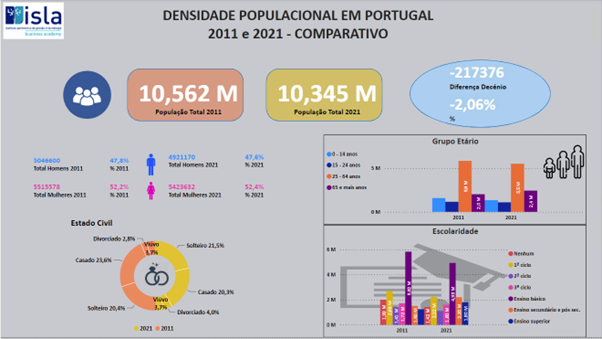

The page's visual inventory and layout, read from the dashboard file:
{"tool":"powerbi","page":{"name":"Comparativo 2011 e 2021","canvas":[1280,720],"ordinal":1},"visuals":[{"type":"textbox","box":[2,9.2,1270.8,87.3],"z":0},{"type":"shape","box":[872.1,128,300,144],"z":0,"group":"g5"},{"type":"image","box":[112,146.1,144,112],"z":0,"group":"g8"},{"type":"shape","box":[269.4,146.1,248,112],"z":0,"group":"g2"},{"type":"shape","box":[565.4,146.1,248,112],"z":0,"group":"g3"},{"type":"image","box":[1152,288,96,115.2],"z":0,"group":"g6"},{"type":"group","id":"g1","title":"Grupo 1","box":[64,320,336,128],"z":0,"group":"g7"},{"type":"multiRowCard","fields":{"Values":["Sum(Estado Civil.Total M)","Sum(Estado Civil.% M)"]},"box":[64,384,336,64],"z":0,"group":"g1"},{"type":"donutChart","title":"Estado Civil","fields":{"Y":["Sum(Estado Civil.Solteiro HM)","Sum(Estado Civil.Casado HM)","Sum(Estado Civil.Divorciado HM)","Sum(Estado Civil.Viúvo HM)"],"Category":["Calendário.Ano"]},"box":[136,464,368,256],"z":0,"group":"g4"},{"type":"multiRowCard","fields":{"Values":["Ensino.População Total","Ensino.População Total %"]},"box":[952.1,128,144,144],"z":1000,"group":"g5"},{"type":"group","id":"g2","title":"Grupo 3","box":[184,146.1,432,112],"z":1000,"group":"g8"},{"type":"card","fields":{"Values":["Sum(Ensino.Total HM)"]},"box":[184,146.1,432,112],"z":1000,"group":"g2"},{"type":"card","fields":{"Values":["Sum(Ensino.Total HM)"]},"box":[480,146.1,432,112],"z":1000,"group":"g3"},{"type":"clusteredColumnChart","title":"Grupo Etário","fields":{"Y":["Sum(Grupo Etário.0 - 14 anos HM)","Sum(Grupo Etário.15 - 24 anos HM)","Sum(Grupo Etário.25 - 64 anos HM)","Sum(Grupo Etário.65 e mais anos HM)"],"Category":["Calendário.Ano"]},"box":[688,288,560,192],"z":1000,"group":"g6"},{"type":"image","box":[288,384,64,48],"z":1000,"group":"g1"},{"type":"multiRowCard","fields":{"Values":["Sum(Estado Civil.Total M)","Sum(Estado Civil.% M)"]},"box":[352,384,336,48],"z":1000,"group":"g7"},{"type":"clusteredColumnChart","title":"Escolaridade","fields":{"Y":["Sum(Ensino.Nenhum HM)","Sum(Ensino.1º ciclo HM)","Sum(Ensino.2º ciclo HM)","Sum(Ensino.3º ciclo HM)","Sum(Ensino.Ensino básico HM)","Sum(Ensino.Ensino secundário e pós secundário HM)","Sum(Ensino.Ensino superior HM)"],"Category":["Calendário.Ano"]},"box":[688,480,560,240],"z":1000},{"type":"image","box":[226.6,554.2,195.8,59.5],"z":1000,"group":"g4"},{"type":"group","id":"g3","title":"Grupo 3","box":[480,146.1,432,112],"z":2000,"group":"g8"},{"type":"multiRowCard","fields":{"Values":["Sum(Estado Civil.Total H)","Estado Civil.% H"]},"box":[64,328,336,56],"z":2000,"group":"g1"},{"type":"multiRowCard","fields":{"Values":["Sum(Estado Civil.Total H)","Estado Civil.% H"]},"box":[352,328,336,80],"z":2000,"group":"g7"},{"type":"group","id":"g4","title":"Grupo 2","box":[136,464,368,256],"z":2000},{"type":"image","box":[0,0,139.2,89.3],"z":3000},{"type":"group","id":"g5","title":"Grupo 5","box":[872.1,128,300,144],"z":3000,"group":"g8"},{"type":"image","box":[288,320,64,64],"z":3000,"group":"g1"},{"type":"group","id":"g6","title":"Grupo 4","box":[688,288,560,192],"z":4000},{"type":"group","id":"g7","title":"Grupo 6","box":[64,320,624,128],"z":5000},{"type":"group","id":"g8","title":"Grupo 7","box":[112,128,1060.1,144],"z":6000}]}

Visuals, with their boxes in screenshot pixels (x1, y1, x2, y2), scaled from the page's 1280x720 canvas onto the 602x339 screenshot:
textbox: [1, 4, 599, 45]
shape: [410, 60, 551, 128]
image: [53, 69, 120, 122]
shape: [127, 69, 243, 122]
shape: [266, 69, 383, 122]
image: [542, 136, 587, 190]
"Grupo 1" group: [30, 151, 188, 211]
multiRowCard - Sum(Estado Civil.Total M) x Sum(Estado Civil.% M): [30, 181, 188, 211]
"Estado Civil" donutChart: [64, 218, 237, 338]
multiRowCard - Ensino.População Total x Ensino.População Total %: [448, 60, 516, 128]
"Grupo 3" group: [87, 69, 290, 122]
card - Sum(Ensino.Total HM): [87, 69, 290, 122]
card - Sum(Ensino.Total HM): [226, 69, 429, 122]
"Grupo Etário" clusteredColumnChart: [324, 136, 587, 226]
image: [135, 181, 166, 203]
multiRowCard - Sum(Estado Civil.Total M) x Sum(Estado Civil.% M): [166, 181, 324, 203]
"Escolaridade" clusteredColumnChart: [324, 226, 587, 338]
image: [107, 261, 199, 289]
"Grupo 3" group: [226, 69, 429, 122]
multiRowCard - Sum(Estado Civil.Total H) x Estado Civil.% H: [30, 154, 188, 181]
multiRowCard - Sum(Estado Civil.Total H) x Estado Civil.% H: [166, 154, 324, 192]
"Grupo 2" group: [64, 218, 237, 338]
image: [0, 0, 65, 42]
"Grupo 5" group: [410, 60, 551, 128]
image: [135, 151, 166, 181]
"Grupo 4" group: [324, 136, 587, 226]
"Grupo 6" group: [30, 151, 324, 211]
"Grupo 7" group: [53, 60, 551, 128]
